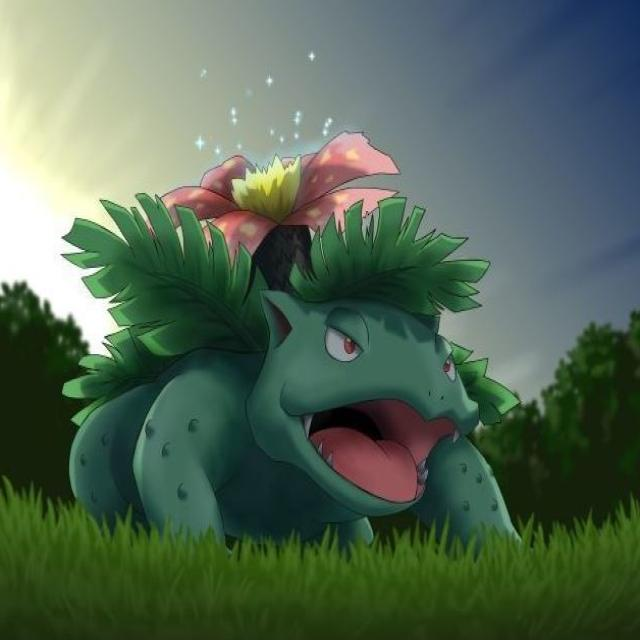Venusaur: (125, 158, 487, 549)
